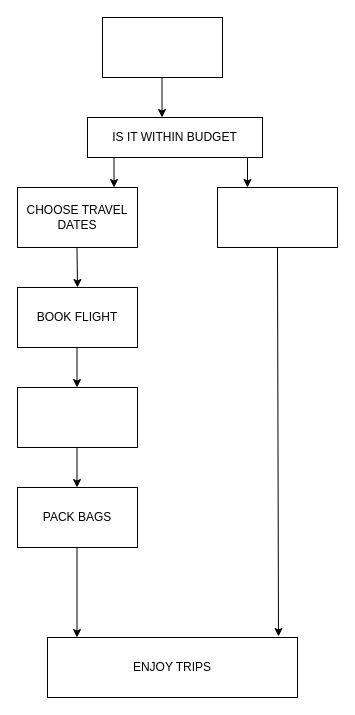
This 355x715 diagram has some shape labels left out. Each missing label, with the box of its shape:
BOOK ACCOMADATION: (16, 386, 138, 448)
SAVE MONEY: (216, 186, 338, 248)
SELECT DESTINATION: (102, 16, 222, 78)
